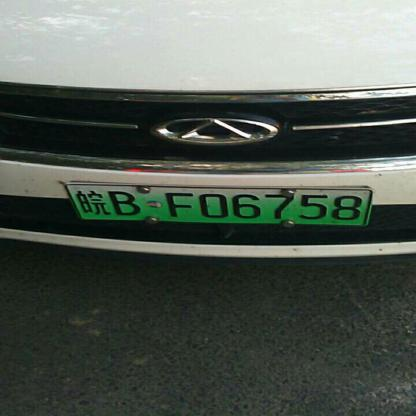lp: (66, 186, 373, 226)
